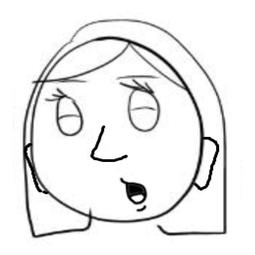ear: (180, 134, 225, 192), (23, 144, 56, 198)
eye: (41, 86, 87, 138), (123, 77, 161, 135)
eyebrow: (116, 72, 157, 82), (57, 78, 91, 84)
open_mouth: (124, 182, 150, 206)
pointy_nose: (89, 123, 130, 163)
